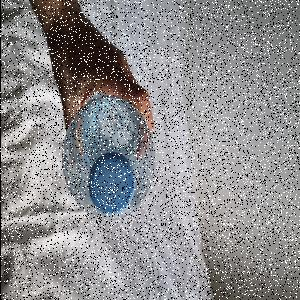Plastic-bottle: (61, 94, 156, 224)
